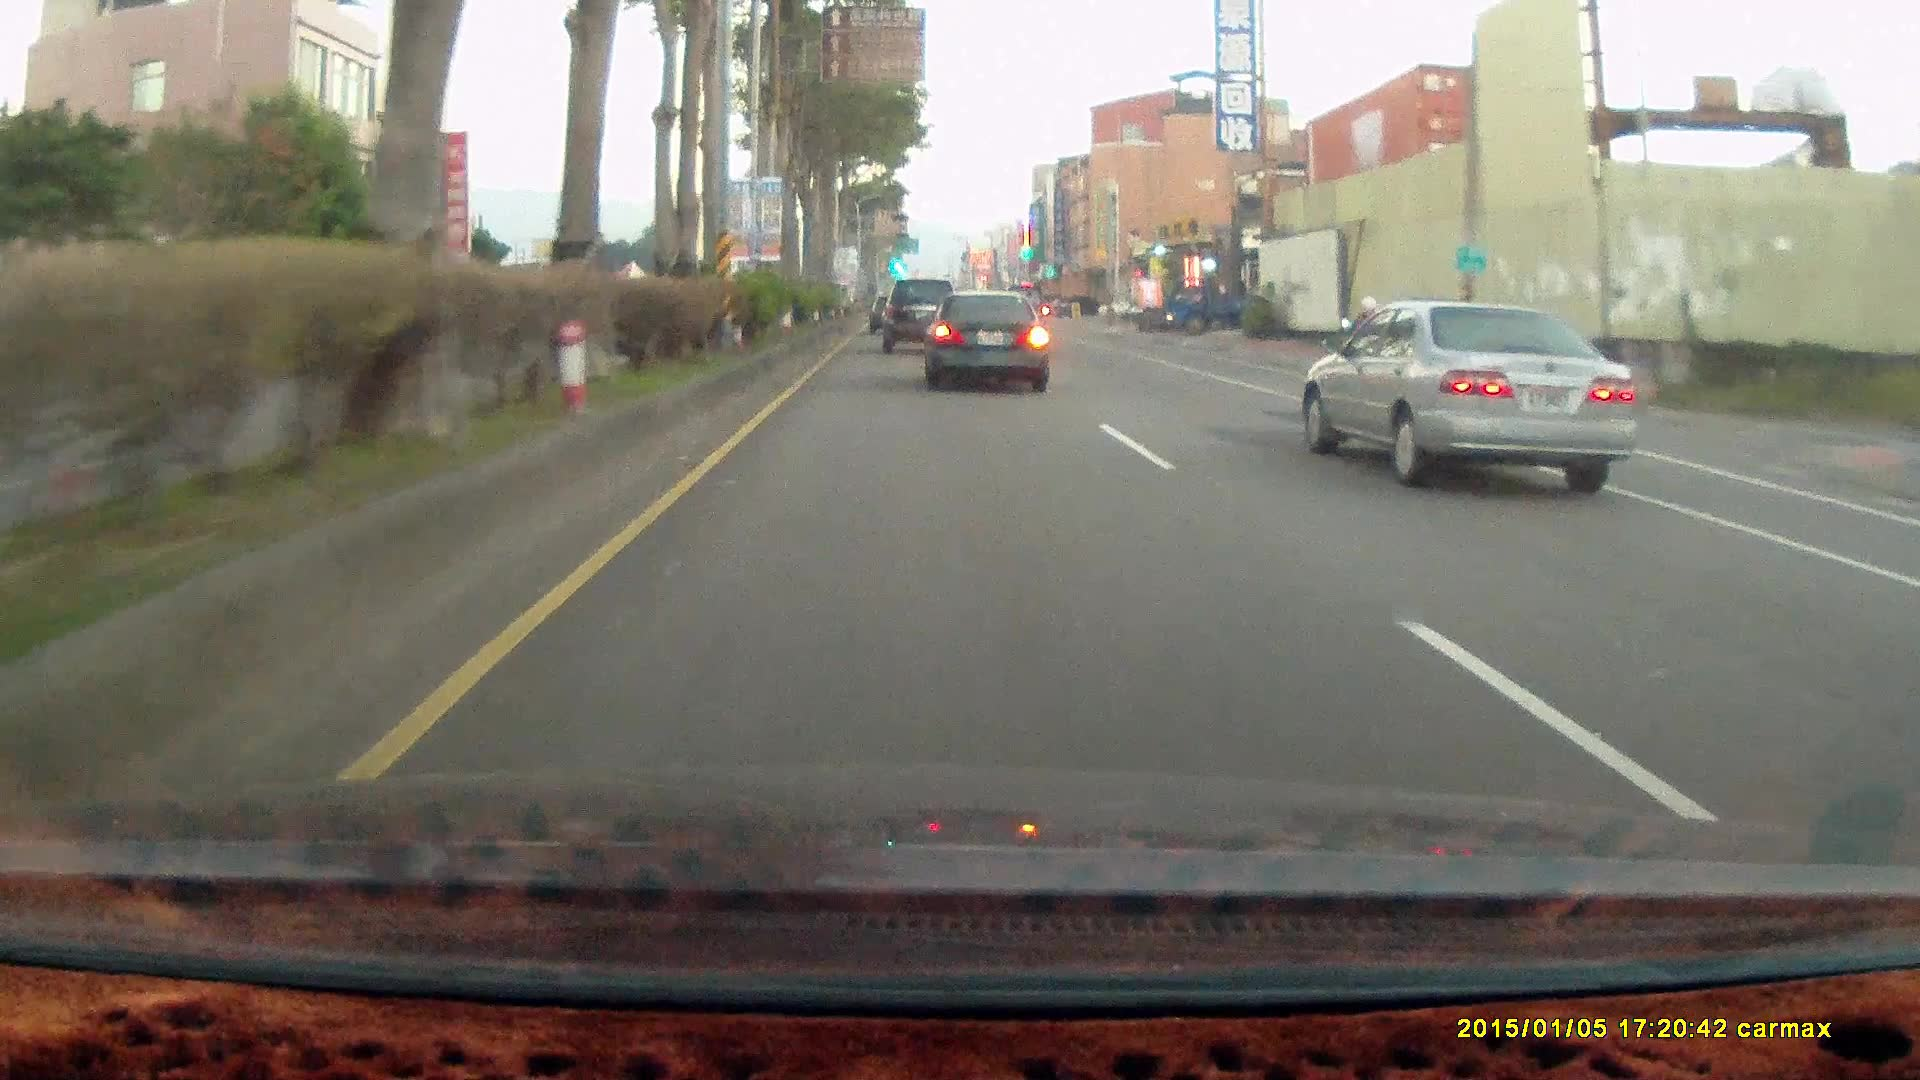vehicle: (1302, 298, 1639, 495), (1298, 301, 1642, 487), (918, 287, 1048, 392), (928, 294, 1058, 392), (1160, 272, 1262, 339), (1159, 274, 1261, 338), (880, 277, 960, 349), (881, 278, 961, 351), (1058, 294, 1101, 316)
